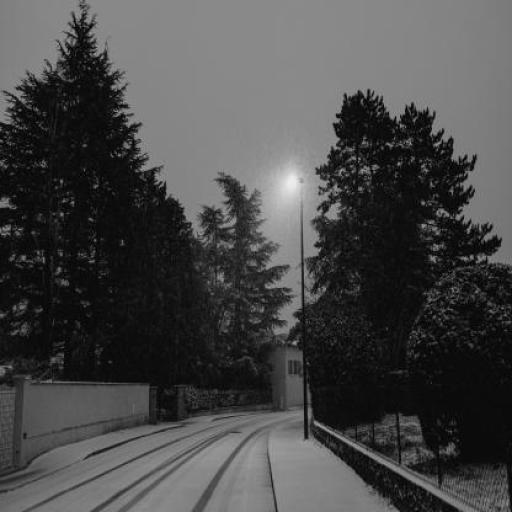street light: (285, 176, 309, 439)
